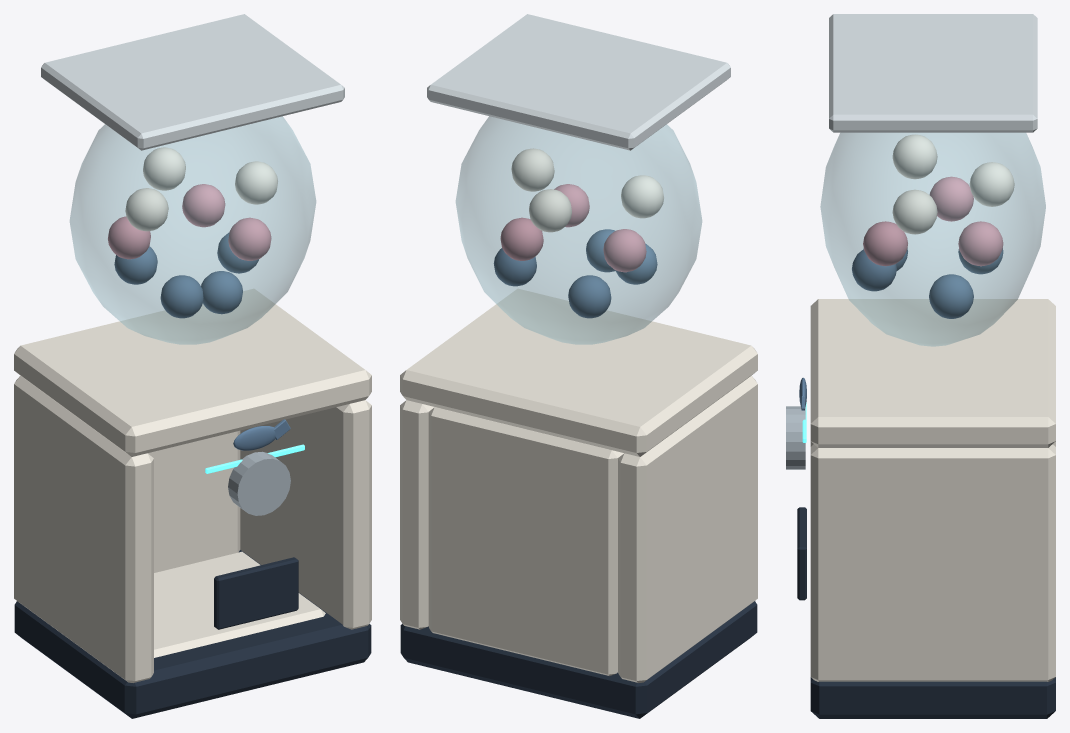
Rendered from public_09.glb.
The picture shows the model from 3 angles, left to right: view 1: azimuth 30°, elevation 25°; view 2: azimuth 150°, elevation 25°; view 3: azimuth 270°, elevation 25°; orthographic projection. The views are drawn at different scales.
Parts seen in each view (by area): view 1: Side (×2), CapsuleDome, Top, DomeCap, Base, ToyCapsule (×10), Back, Bottom, ToyOutlet, Crank, WhaleBody; view 2: CapsuleDome, Back, Side (×2), Top, DomeCap, Base, ToyCapsule (×10); view 3: Side, CapsuleDome, Top, DomeCap, ToyCapsule (×8), Base, Crank, ToyOutlet.
Part boxes in pixels (bbox=[...]): Side (×2): bbox=[14, 376, 371, 682]; CapsuleDome: bbox=[69, 116, 316, 344]; Top: bbox=[14, 288, 371, 456]; DomeCap: bbox=[41, 14, 344, 150]; Base: bbox=[14, 550, 371, 718]; ToyCapsule (×10): bbox=[108, 147, 277, 318]; Back: bbox=[148, 430, 240, 572]; Bottom: bbox=[154, 551, 325, 657]; ToyOutlet: bbox=[214, 557, 298, 629]; Crank: bbox=[228, 451, 290, 515]; WhaleBody: bbox=[233, 426, 275, 450]; CapsuleDome: bbox=[455, 116, 702, 344]; Back: bbox=[428, 407, 623, 675]; Side (×2): bbox=[400, 376, 757, 682]; Top: bbox=[400, 288, 757, 456]; DomeCap: bbox=[427, 14, 730, 150]; Base: bbox=[400, 601, 757, 718]; ToyCapsule (×10): bbox=[493, 148, 663, 318]; Side: bbox=[810, 444, 1055, 681]; CapsuleDome: bbox=[820, 132, 1045, 346]; Top: bbox=[810, 299, 1055, 447]; DomeCap: bbox=[829, 14, 1037, 132]; ToyCapsule (×8): bbox=[852, 134, 1014, 318]; Base: bbox=[810, 677, 1055, 718]; Crank: bbox=[786, 406, 805, 469]; ToyOutlet: bbox=[797, 507, 806, 600].
Bounding box in the file's own units: 0.6 × 1.34 × 0.55.
